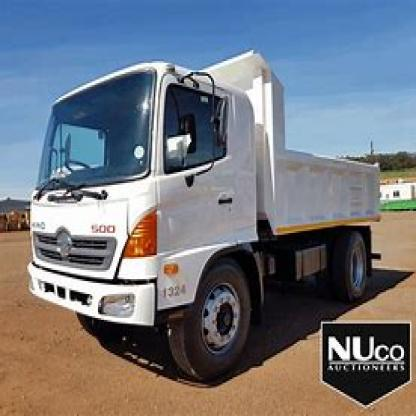dump_truck: (31, 37, 388, 383)
